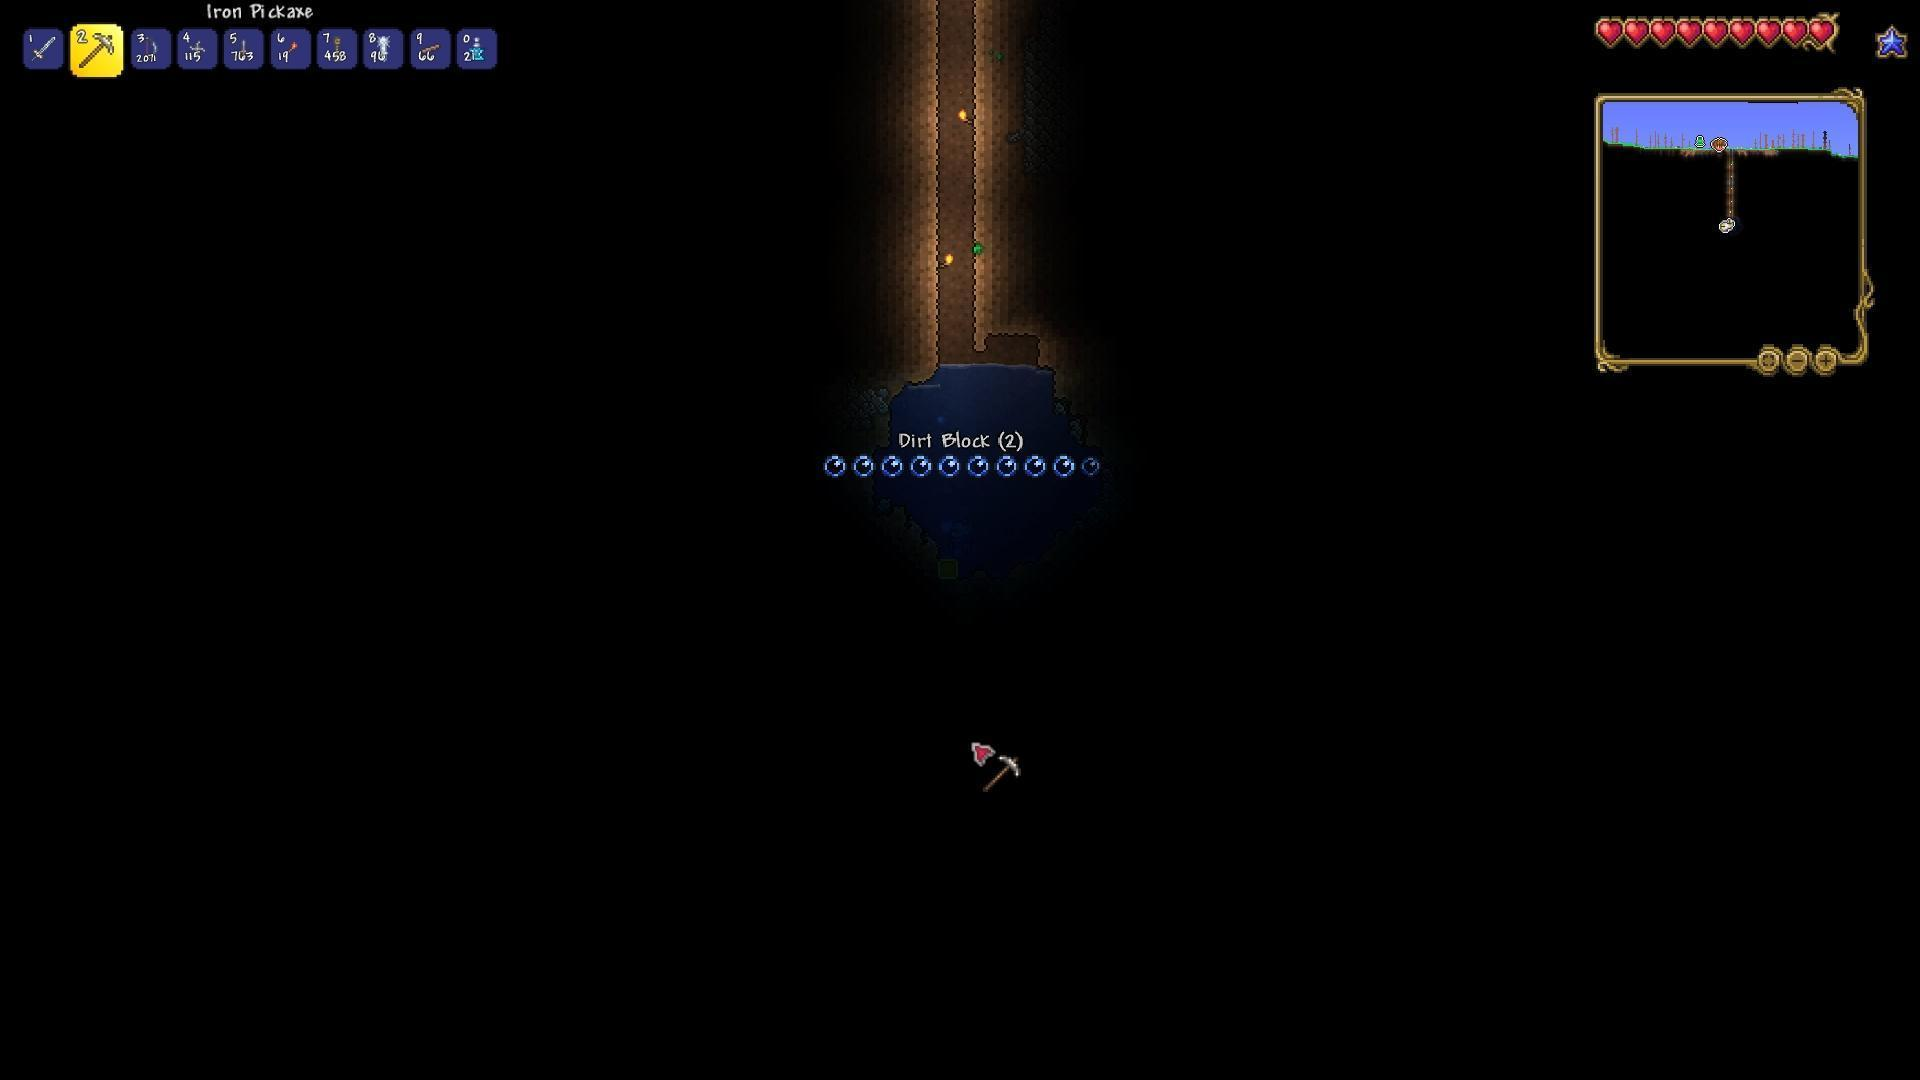bow: (141, 30, 160, 67)
heart: (1702, 17, 1727, 47)
knife: (239, 38, 248, 61)
pickaxe: (78, 32, 113, 73)
platform: (422, 41, 440, 59)
shuriken: (189, 38, 206, 59)
